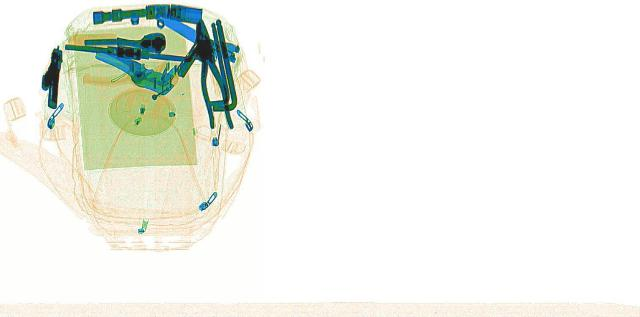Gun: (34, 45, 64, 108)
Pliers: (183, 17, 235, 129)
